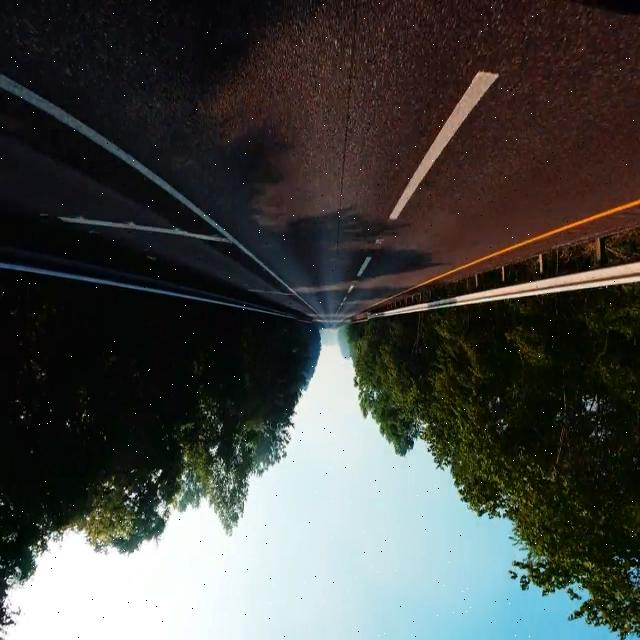lane: (0, 74, 268, 269), (421, 199, 640, 284), (390, 72, 498, 220)
road: (1, 1, 638, 319)
